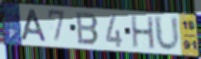4: (105, 13, 124, 49)
7: (47, 8, 67, 46)
A: (19, 8, 48, 44)
B: (75, 11, 101, 47)
H: (129, 15, 157, 51)
U: (152, 13, 182, 53)
